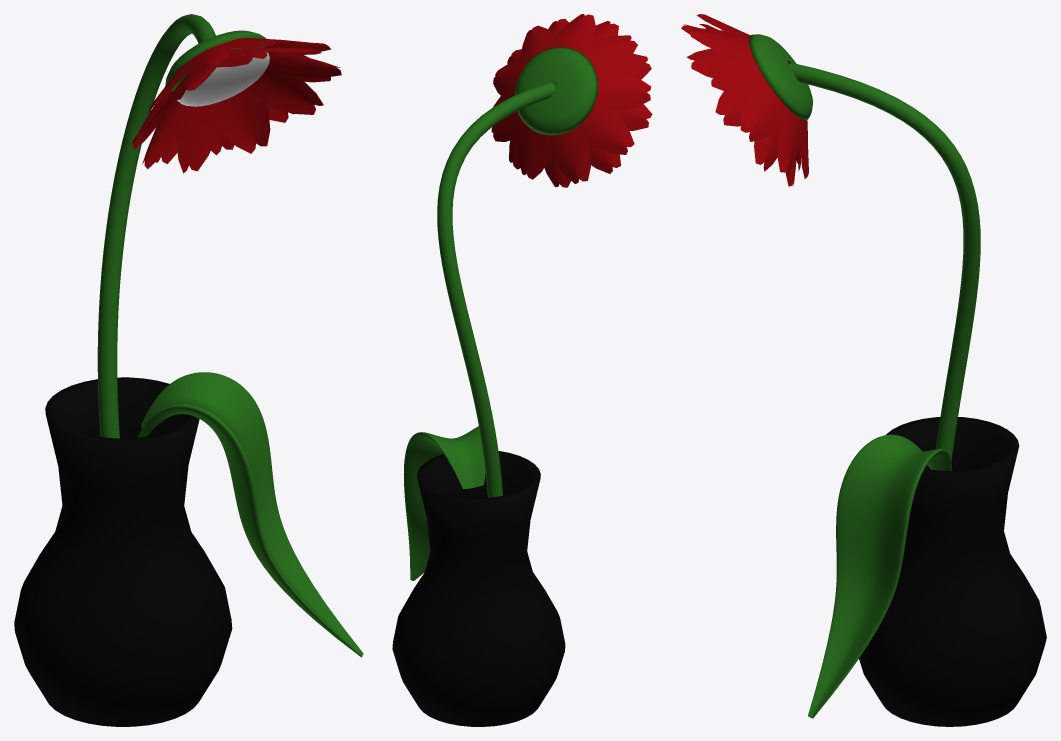
File: TallFlower.glb
3 renders of one model, left to right at view 1: azimuth 30°, elevation 25°; view 2: azimuth 150°, elevation 25°; view 3: azimuth 270°, elevation 25°, orthographic. The views are drawn at different scales.
Visible parts, largest first — view 1: TallFlower; view 2: TallFlower; view 3: TallFlower.
Part boxes in pixels (left/top/right/bottom): TallFlower: left=14, top=14, right=363, bottom=726; TallFlower: left=392, top=14, right=652, bottom=726; TallFlower: left=681, top=14, right=1046, bottom=726.
Size of the model in its own units: 1.54 by 4.26 by 2.1.
